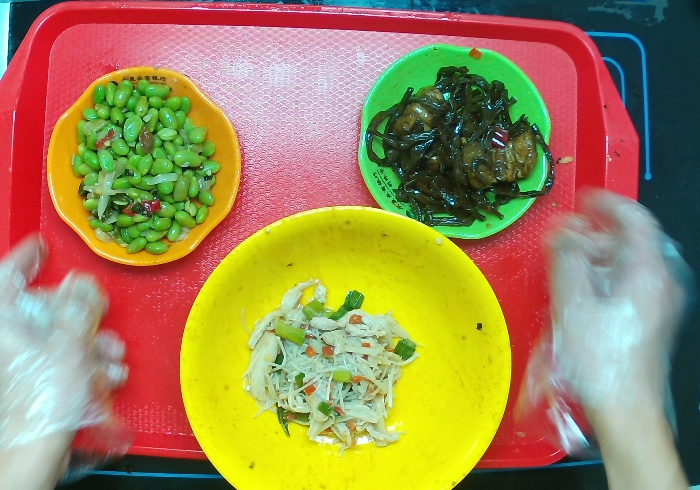YKMZ-Huang_Se_Tang_Wan: (177, 199, 515, 490)
YKMZ-Ju_Se_Ao_Bian_Wan: (39, 59, 251, 272)
YKMZ-Lv_Se_Ao_Bian_Wan: (351, 38, 555, 243)
